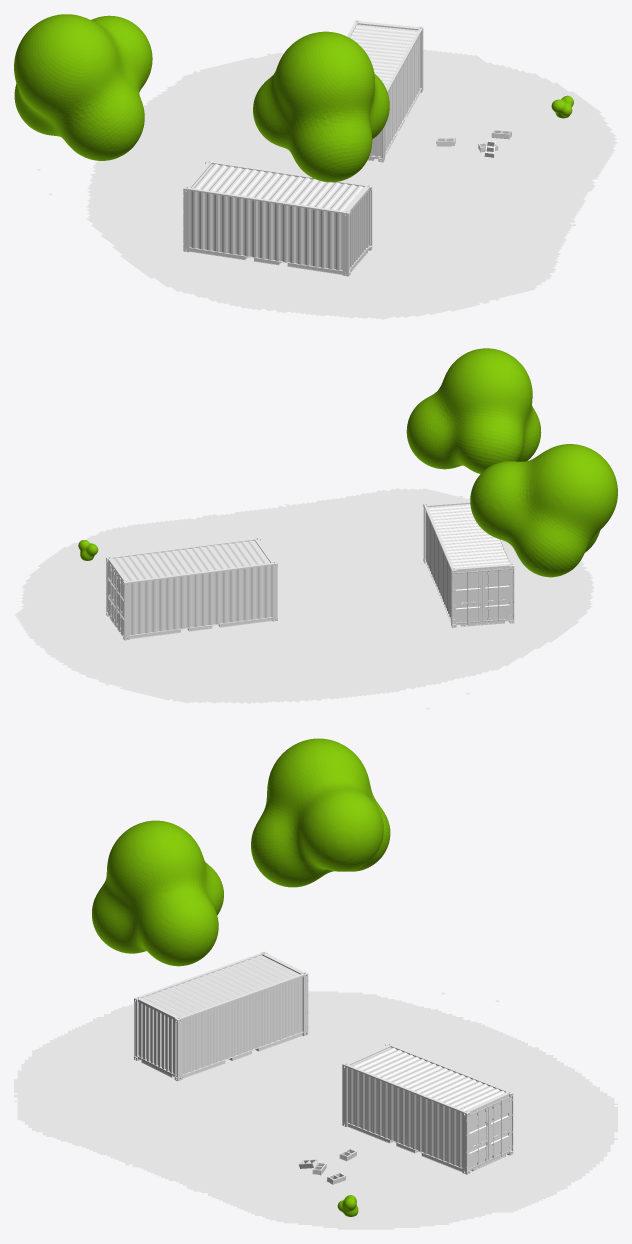
Rendered from Test Three js Demix без мат.gltf.
3 views of the same model, one above another, from view 1: azimuth 30°, elevation 25°; view 2: azimuth 150°, elevation 25°; view 3: azimuth 270°, elevation 25° (orthographic). The views are drawn at different scales.
Parts seen in each view (by area): view 1: пол, Remesh, контейнер 2, Remesh.3, Object_3, Object_4; view 2: пол, Remesh, Object_3, Remesh.3, контейнер 2, Object_4 (×2); view 3: пол, Remesh, контейнер 2, Object_3, Remesh.3, Object_4 (×2).
Boxes of the visible parts, x1,y1,x2,y2 form: пол: (36,49,617,319); Remesh: (14,14,152,160); контейнер 2: (186,161,370,275); Remesh.3: (253,31,389,182); Object_3: (347,21,422,160); Object_4: (183,160,372,276); пол: (14,488,594,709); Remesh: (470,444,617,577); Object_3: (107,538,274,639); Remesh.3: (406,348,541,473); контейнер 2: (424,500,513,626); Object_4 (×2): (106,503,514,640); пол: (14,990,617,1229); Remesh: (251,738,390,887); контейнер 2: (135,953,304,1079); Object_3: (345,1045,510,1172); Remesh.3: (92,820,223,966); Object_4 (×2): (134,951,513,1174).
Bounding box in the file's own units: 29.23 × 11.25 × 26.61.
